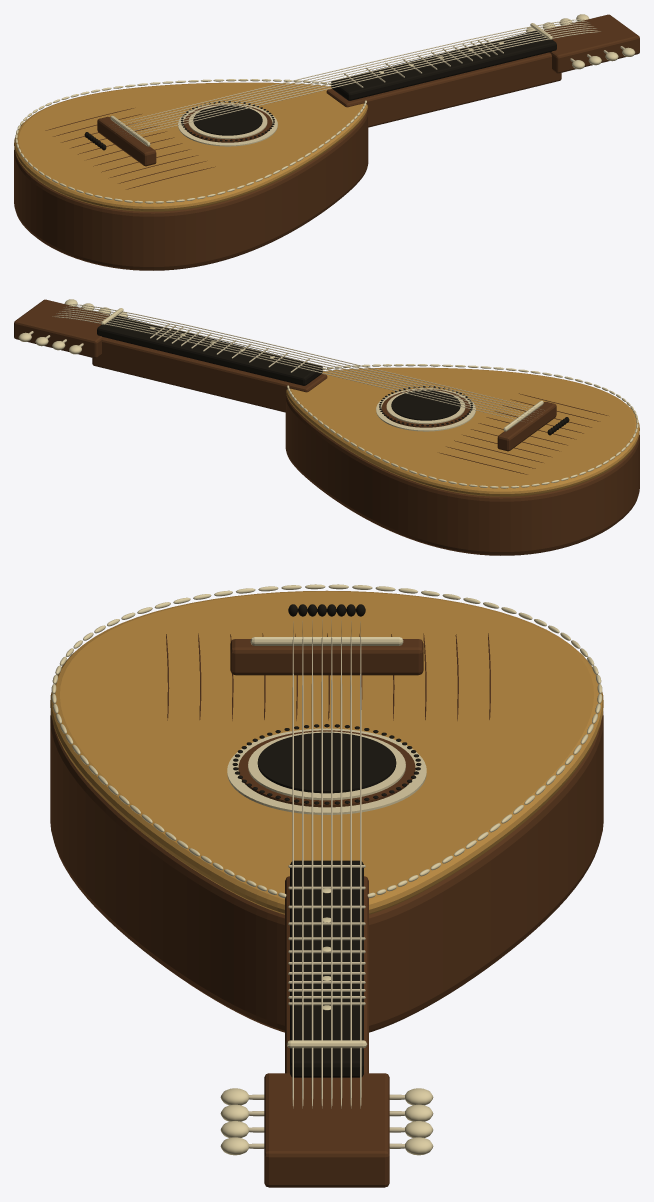
Rendered from stringed-instrument.glb.
3 renders of one model, top to bottom at view 1: azimuth 30°, elevation 25°; view 2: azimuth 150°, elevation 25°; view 3: azimuth 270°, elevation 25°, orthographic. The views are drawn at different scales.
Visible parts, largest first — view 1: Stringed instrument detailed mesh; view 2: Stringed instrument detailed mesh; view 3: Stringed instrument detailed mesh.
Boxes of the visible parts, x1,y1,x2,y2 form: Stringed instrument detailed mesh: [14, 14, 639, 270]; Stringed instrument detailed mesh: [14, 299, 639, 555]; Stringed instrument detailed mesh: [50, 584, 603, 1187].
Bounding box in the file's own units: 0.845 × 0.1237 × 0.3439.
